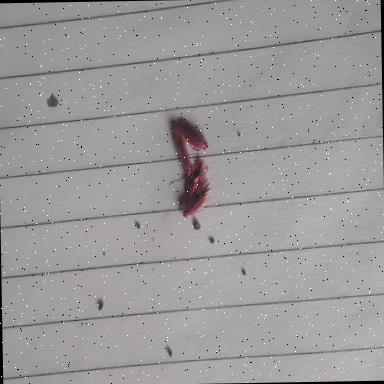pbw: (169, 129, 194, 186), (182, 182, 213, 218), (179, 119, 210, 152), (186, 158, 209, 199)
